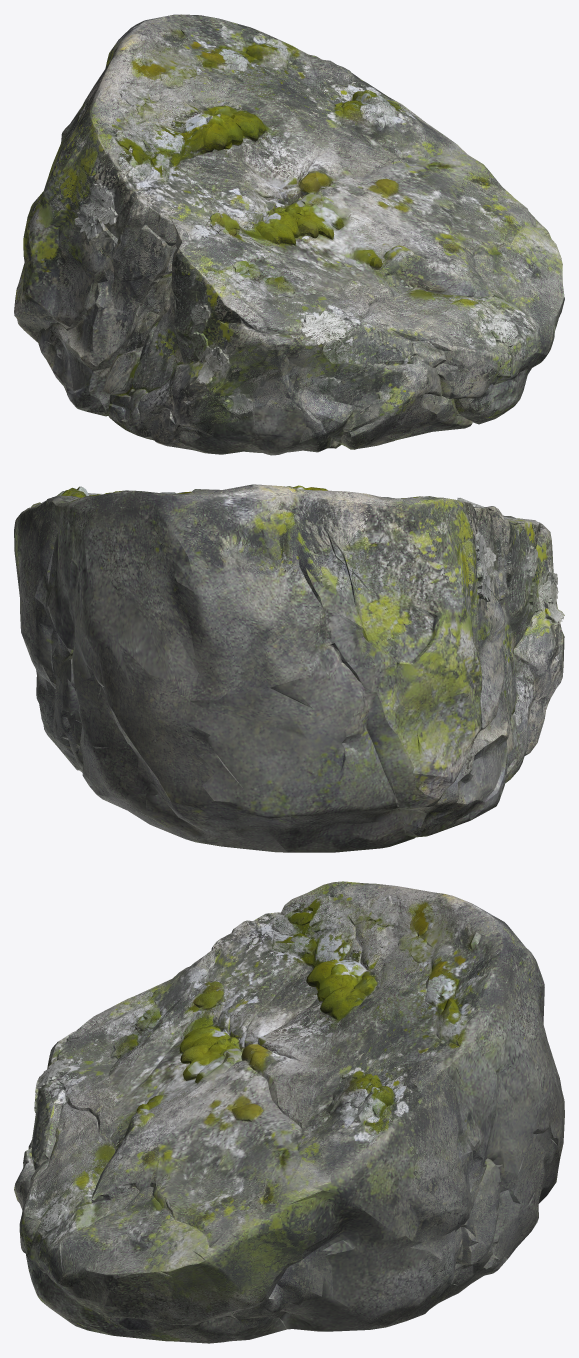
Rendered from granite_hf_2.glb.
3 renders of one model, top to bottom at view 1: azimuth 30°, elevation 25°; view 2: azimuth 150°, elevation 25°; view 3: azimuth 270°, elevation 25°, orthographic. The views are drawn at different scales.
Parts seen in each view (by area): view 1: Mesh_0; view 2: Mesh_0; view 3: Mesh_0.
Part boxes in pixels (<box>): Mesh_0: <box>14,14,564,455</box>; Mesh_0: <box>14,484,564,852</box>; Mesh_0: <box>14,881,564,1343</box>.
Bounding box in the file's own units: 1.9 × 1.2 × 1.86.
Materials: 1 (1 with a texture image).
